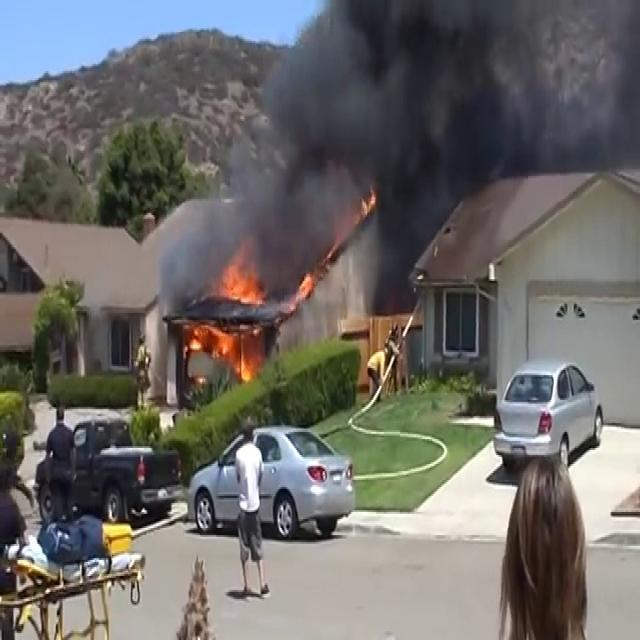Fire: (184, 254, 264, 384)
Smoke: (212, 0, 483, 282), (451, 0, 640, 178)
